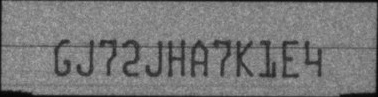1: (259, 39, 277, 78)
2: (121, 38, 142, 77)
4: (304, 39, 322, 77)
7: (99, 39, 117, 77), (212, 39, 230, 76)
A: (189, 39, 207, 77)
E: (281, 38, 300, 77)
G: (53, 38, 72, 76)
H: (166, 39, 186, 78)
J: (75, 39, 95, 78), (144, 39, 162, 78)
K: (236, 38, 254, 77)
